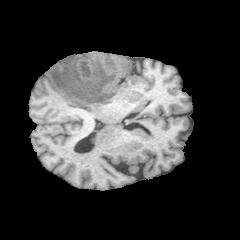glioma: (49, 52, 122, 107)
